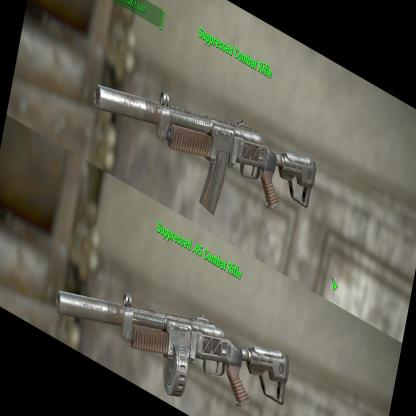rifle: (85, 38, 324, 264), (54, 234, 305, 416)
